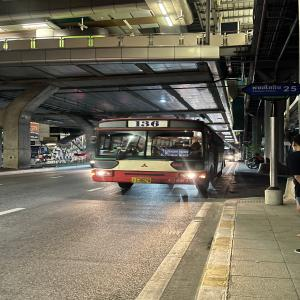BMTA-bus: (90, 117, 226, 197)
Bus Line Number: (131, 120, 164, 128)
Bus Side Number: (165, 178, 197, 184)
Destination Sign: (160, 148, 188, 158)
